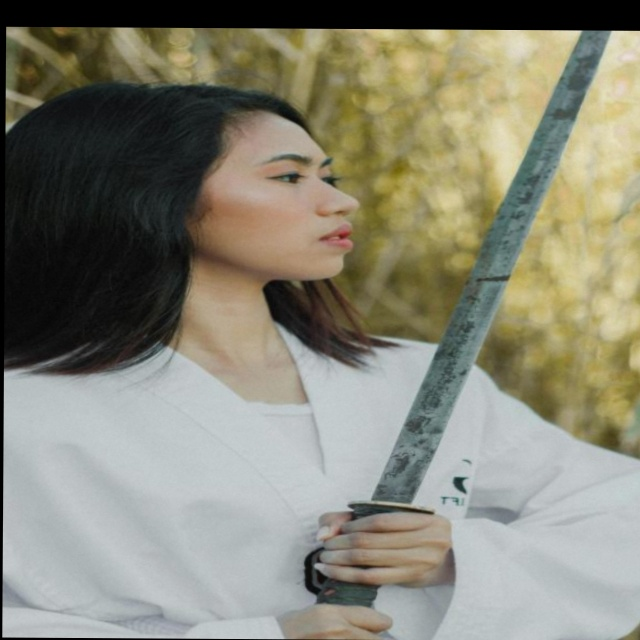Sharp-Object: (290, 29, 640, 637)
